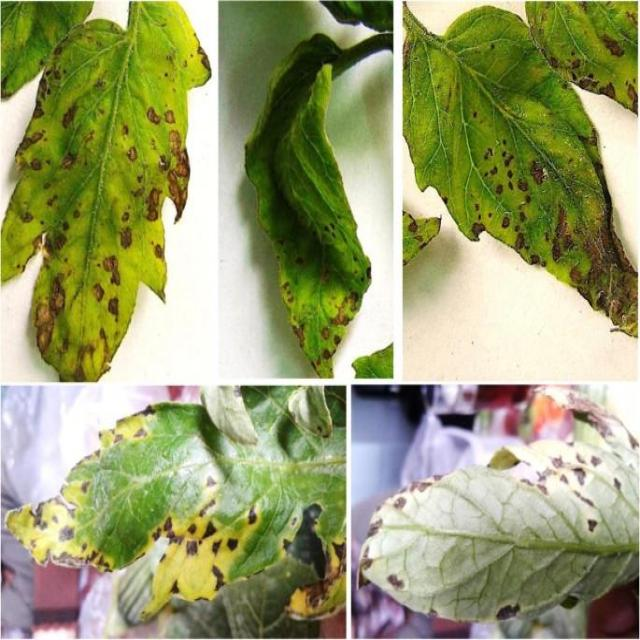blight: (31, 265, 75, 355)
